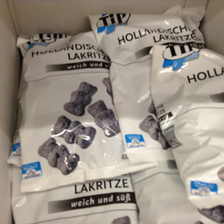candy: (80, 7, 210, 162), (13, 28, 132, 192), (151, 35, 224, 200)
